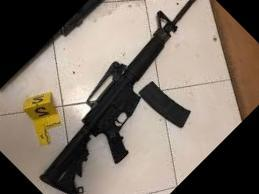larga: (39, 0, 196, 194)
